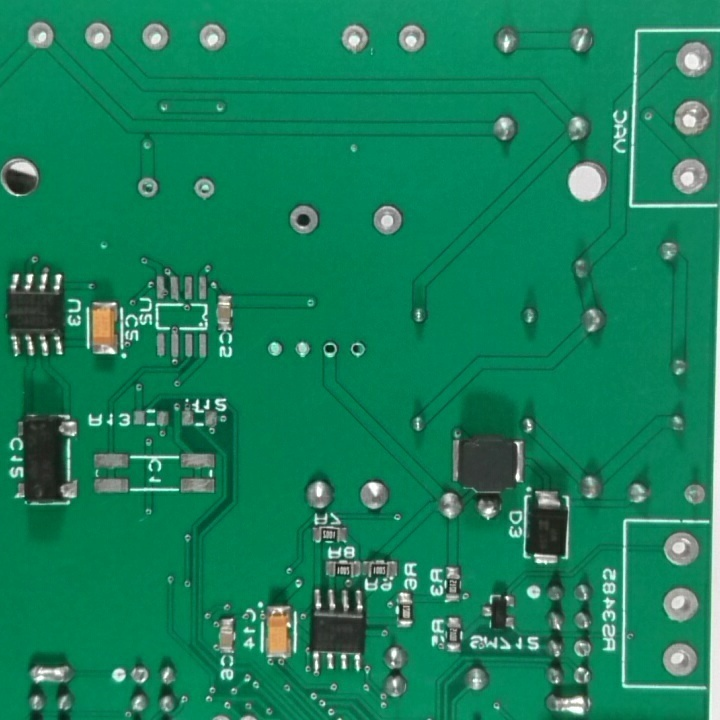F: (669, 37, 716, 80), (659, 580, 701, 626), (671, 95, 713, 138), (670, 155, 712, 198), (659, 640, 701, 681), (661, 527, 701, 570), (335, 18, 373, 59), (368, 200, 406, 239), (392, 20, 429, 58), (284, 201, 322, 236), (23, 19, 60, 54), (136, 20, 173, 55), (193, 20, 230, 55), (81, 18, 113, 51), (193, 175, 221, 204), (681, 479, 709, 506), (124, 664, 154, 687), (136, 178, 161, 200), (571, 639, 594, 661), (320, 338, 340, 363), (264, 339, 285, 361), (347, 338, 367, 360), (293, 338, 312, 360)
P: (23, 660, 77, 687), (540, 692, 596, 715)
